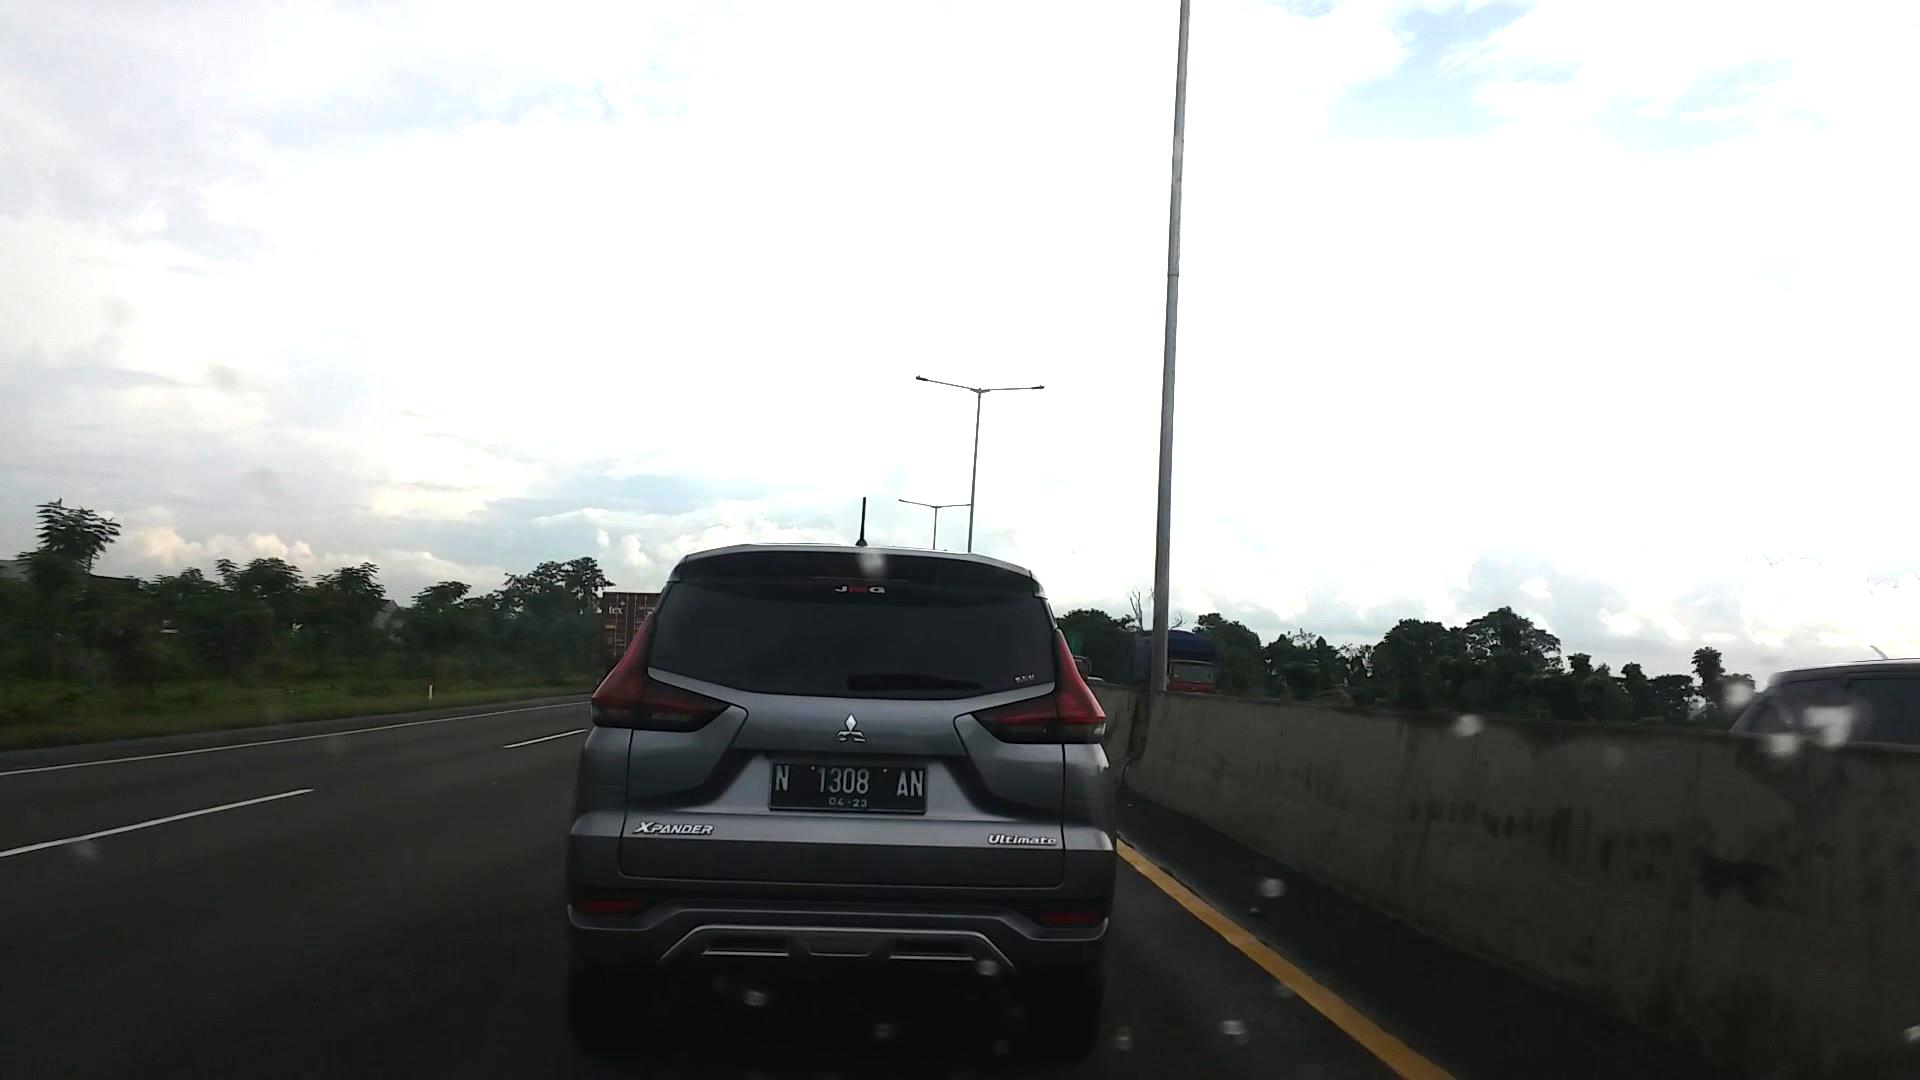plate_positive: (767, 761, 928, 815)
